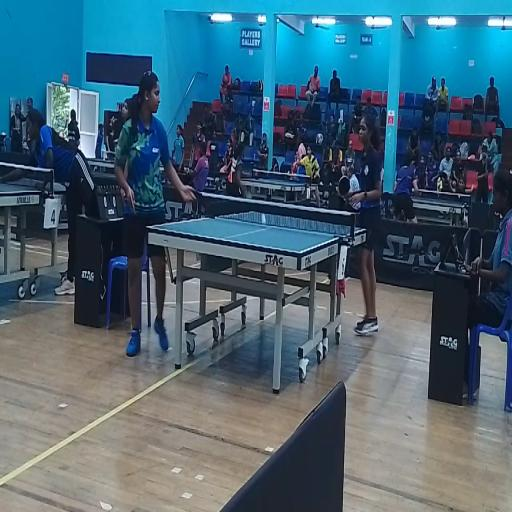ball: (262, 214, 266, 224)
